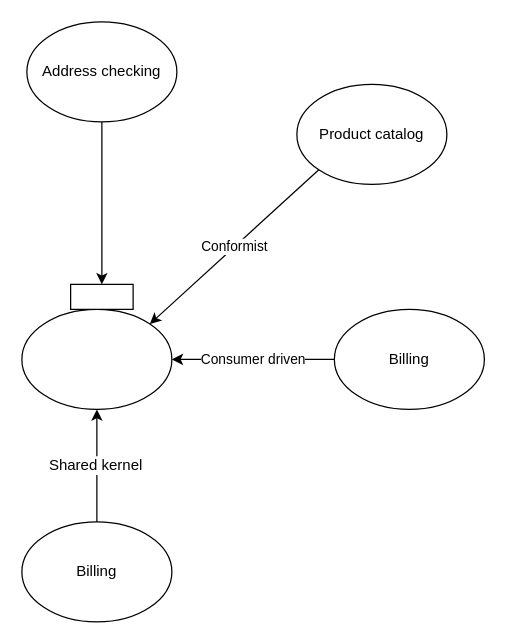
Image size: 506x644. Some labels were removed from this diagram. The shapes that lost their labels are listed below. From the top down, each one's centre as x and y in pixels, then its label:
At (101,296): "ACL".
At (96,358): "Order-taking".
